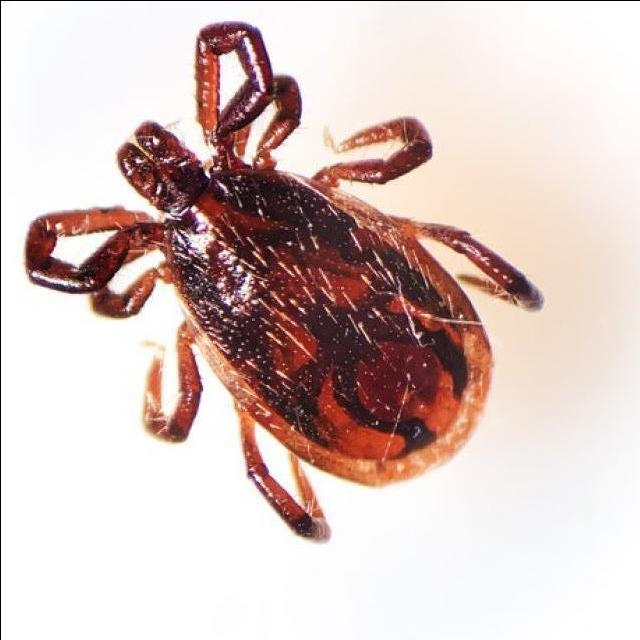Ixodes Ricinus-M: (22, 18, 544, 542)
